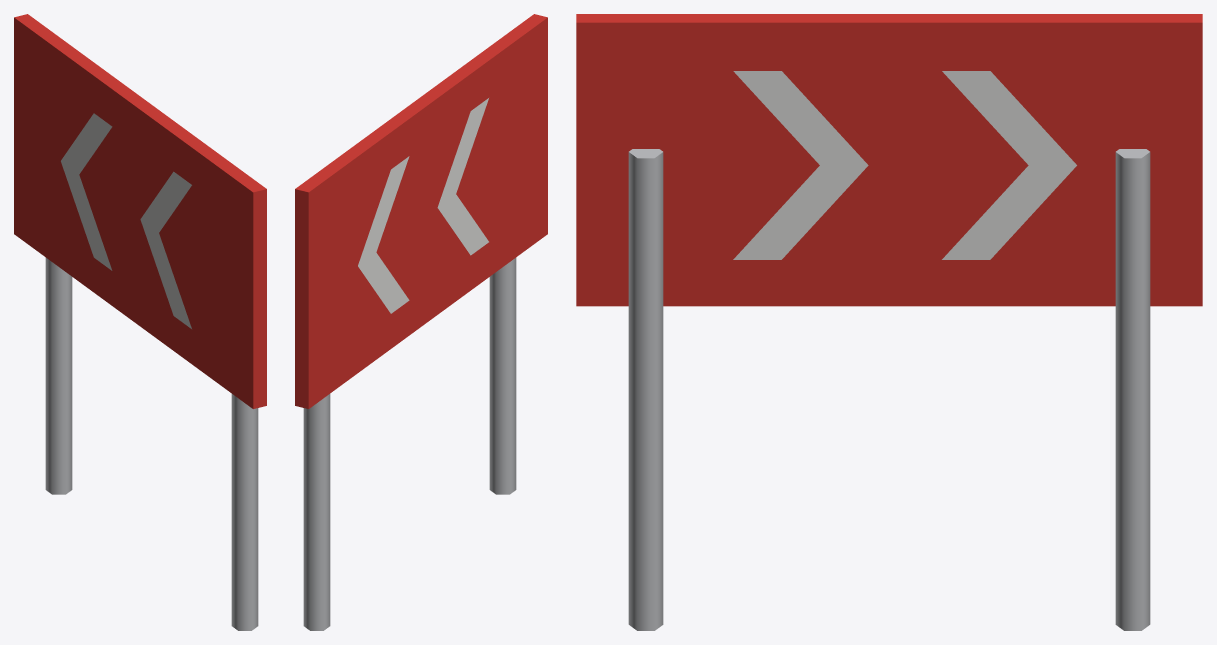
The model's file is SM_ChevronBoard.fbx.
3 views of the same model, side by side, from view 1: azimuth 30°, elevation 25°; view 2: azimuth 150°, elevation 25°; view 3: azimuth 270°, elevation 25° (orthographic). The views are drawn at different scales.
Visible parts, largest first — view 1: SM_ChevronBoard; view 2: SM_ChevronBoard; view 3: SM_ChevronBoard.
Boxes of the visible parts, x1,y1,x2,y2 form: SM_ChevronBoard: (14,14,266,630); SM_ChevronBoard: (295,14,547,630); SM_ChevronBoard: (576,14,1202,630).
Size of the model in its own units: 12.83 by 190 by 180.
